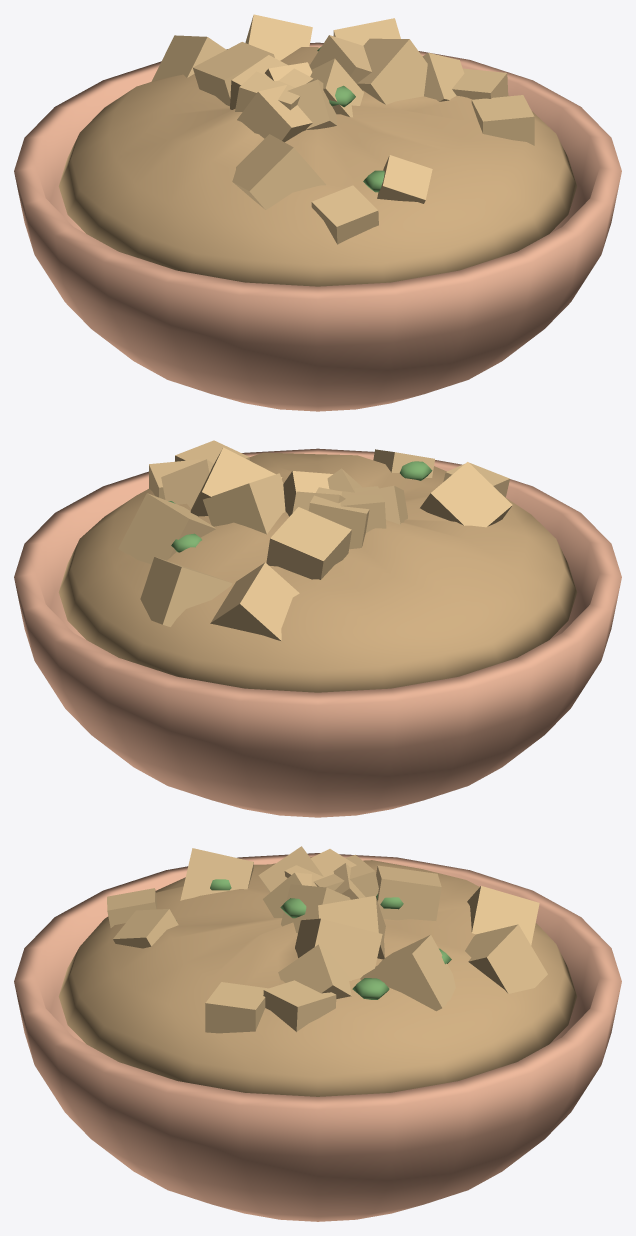
Rendered from bowl-stuffing.glb.
The picture shows the model from 3 angles, top to bottom: view 1: azimuth 30°, elevation 25°; view 2: azimuth 150°, elevation 25°; view 3: azimuth 270°, elevation 25°; orthographic projection.
Parts seen in each view (by area): view 1: bowl, stuffing-bed, croutons, herbs; view 2: bowl, stuffing-bed, croutons, herbs; view 3: bowl, stuffing-bed, croutons, herbs.
Boxes of the visible parts, x1,y1,x2,y2 form: bowl: [14, 42, 621, 411]; stuffing-bed: [58, 47, 577, 286]; croutons: [151, 14, 534, 244]; herbs: [317, 46, 384, 192]; bowl: [14, 448, 621, 817]; stuffing-bed: [58, 452, 577, 692]; croutons: [118, 440, 512, 641]; herbs: [168, 461, 432, 552]; bowl: [14, 853, 621, 1221]; stuffing-bed: [58, 856, 577, 1096]; croutons: [107, 846, 547, 1033]; herbs: [176, 879, 451, 999].
Bounding box in the file's own units: 0.1618 × 0.0857 × 0.1618.
